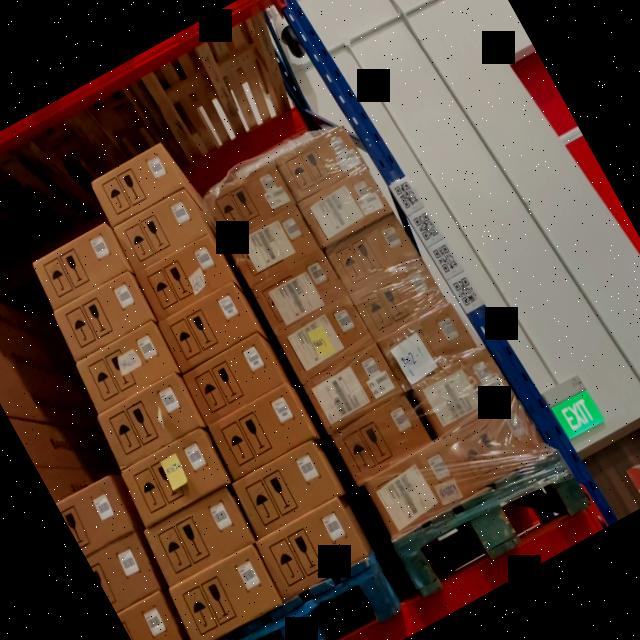box: (227, 436, 346, 544), (362, 434, 476, 543), (167, 539, 286, 640), (440, 392, 551, 499), (92, 370, 206, 470), (206, 382, 317, 483), (260, 500, 370, 601), (142, 486, 255, 584), (74, 320, 185, 418), (182, 331, 292, 428), (328, 387, 436, 484), (156, 278, 262, 376), (119, 428, 224, 520), (378, 301, 481, 394), (278, 296, 380, 388), (302, 338, 404, 429), (29, 222, 132, 312), (49, 268, 150, 359), (410, 344, 510, 435), (110, 184, 210, 274), (133, 230, 234, 318), (225, 199, 322, 288), (352, 256, 450, 343), (250, 248, 348, 334), (301, 163, 395, 250), (324, 213, 420, 298), (90, 144, 186, 229), (202, 156, 298, 240), (274, 122, 368, 205)
